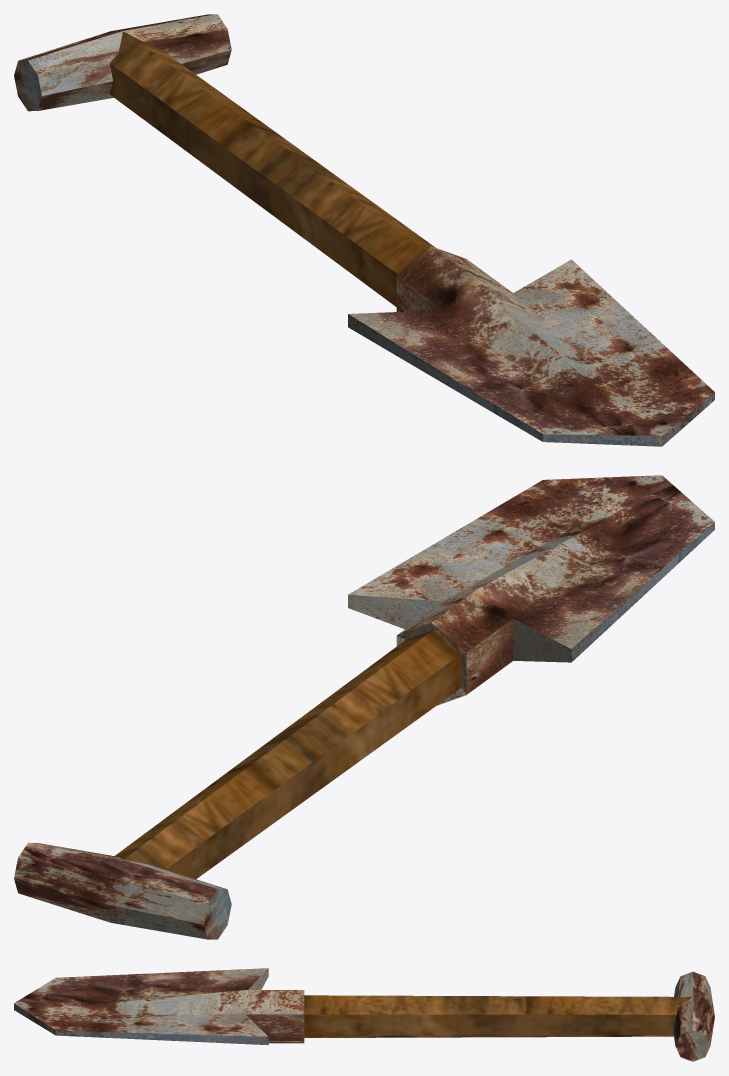
File: Shovel.glb
3 renders of one model, top to bottom at view 1: azimuth 30°, elevation 25°; view 2: azimuth 150°, elevation 25°; view 3: azimuth 270°, elevation 25°, orthographic. The views are drawn at different scales.
Parts seen in each view (by area): view 1: Cylinder, Cylinder.001; view 2: Cylinder, Cylinder.001; view 3: Cylinder, Cylinder.001.
Part boxes in pixels (x1,y1,x2,y2): Cylinder: (109, 31, 714, 446); Cylinder.001: (14, 14, 231, 111); Cylinder: (114, 475, 714, 878); Cylinder.001: (14, 842, 231, 939); Cylinder: (14, 968, 691, 1045); Cylinder.001: (672, 971, 714, 1061).
Bounding box in the file's own units: 0.735 × 0.2658 × 3.17.
Materials: 2 (2 with a texture image).
